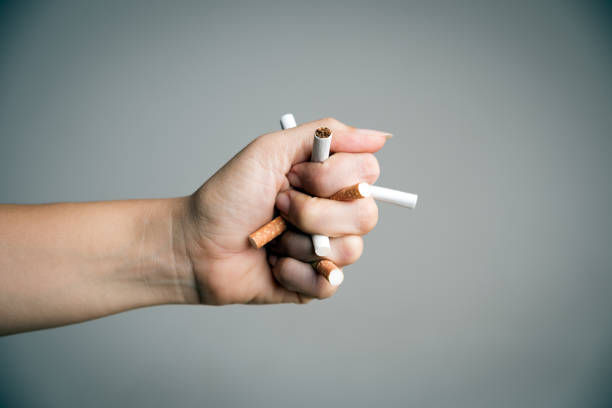cigarette: (247, 213, 290, 251), (368, 185, 419, 210), (311, 259, 345, 287), (330, 181, 371, 201), (311, 126, 332, 163), (311, 233, 332, 257), (281, 112, 297, 129)
